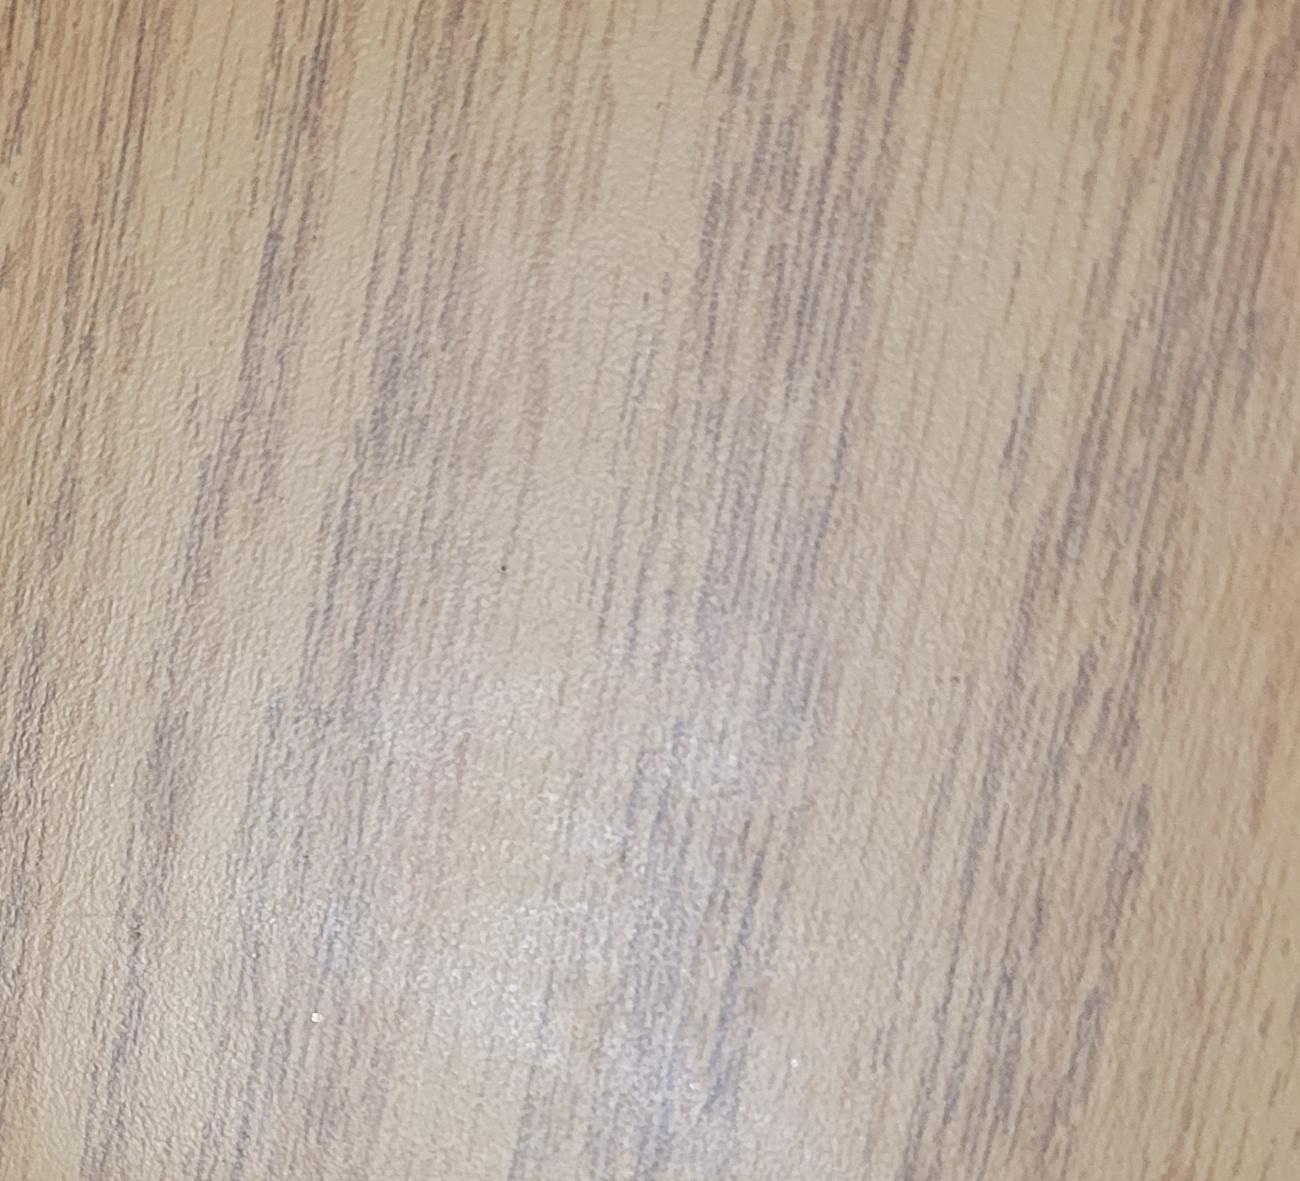Chip: (1, 139, 413, 1181)
